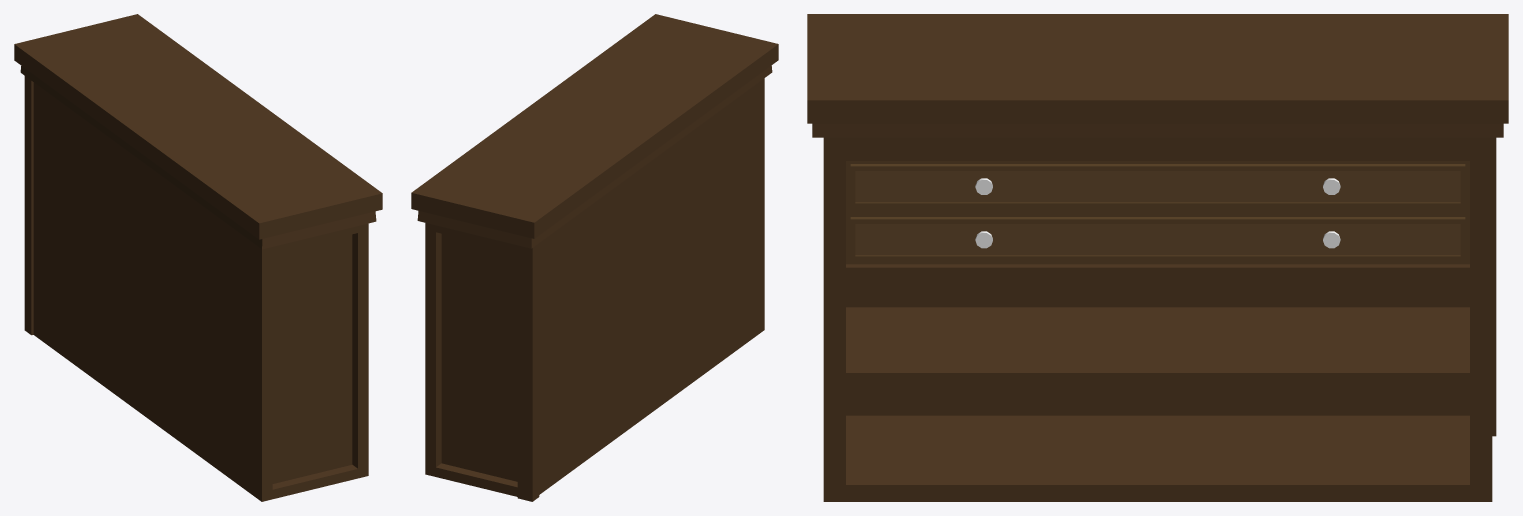
File: SM_Prop_Cupboard_02b.obj
3 views of the same model, side by side, from view 1: azimuth 30°, elevation 25°; view 2: azimuth 150°, elevation 25°; view 3: azimuth 270°, elevation 25° (orthographic). The views are drawn at different scales.
Parts seen in each view (by area): view 1: SM_Prop_Cupboard_02b_Mat_SwatchOverlay_Farm_01_WoodRotated_Inst; view 2: SM_Prop_Cupboard_02b_Mat_SwatchOverlay_Farm_01_WoodRotated_Inst; view 3: SM_Prop_Cupboard_02b_Mat_SwatchOverlay_Farm_01_WoodRotated_Inst, SM_Prop_Cupboard_02b_MI_ColorPalette.
Boxes of the visible parts, box(x1,y1,x2,y2) form: SM_Prop_Cupboard_02b_Mat_SwatchOverlay_Farm_01_WoodRotated_Inst: box(14, 14, 382, 501); SM_Prop_Cupboard_02b_Mat_SwatchOverlay_Farm_01_WoodRotated_Inst: box(411, 14, 778, 501); SM_Prop_Cupboard_02b_Mat_SwatchOverlay_Farm_01_WoodRotated_Inst: box(807, 14, 1508, 501); SM_Prop_Cupboard_02b_MI_ColorPalette: box(975, 178, 1340, 248).
Size of the model in its own units: 0.5367 by 1.18 by 1.84.
Materials: 2 (1 with a texture image).
